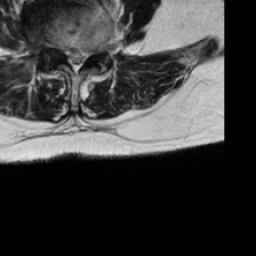CCS_normal: (72, 42, 78, 81)
LFS_severe_stenosis: (88, 39, 99, 64)
LLS_stenosis: (78, 43, 88, 72)
RFS_severe_stenosis: (51, 37, 62, 61)
RLS_normal: (62, 41, 72, 68)
